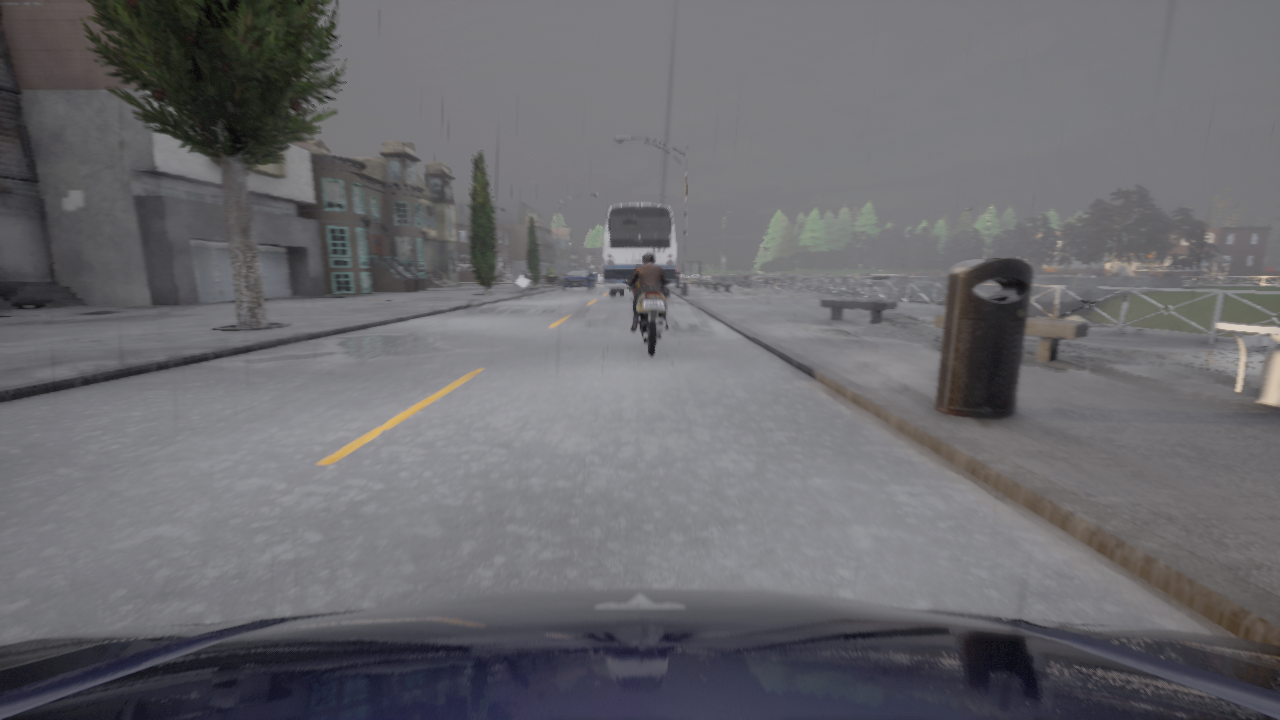cyclist: (0, 588, 1279, 719), (604, 203, 675, 297), (623, 279, 670, 357), (562, 269, 594, 291)
